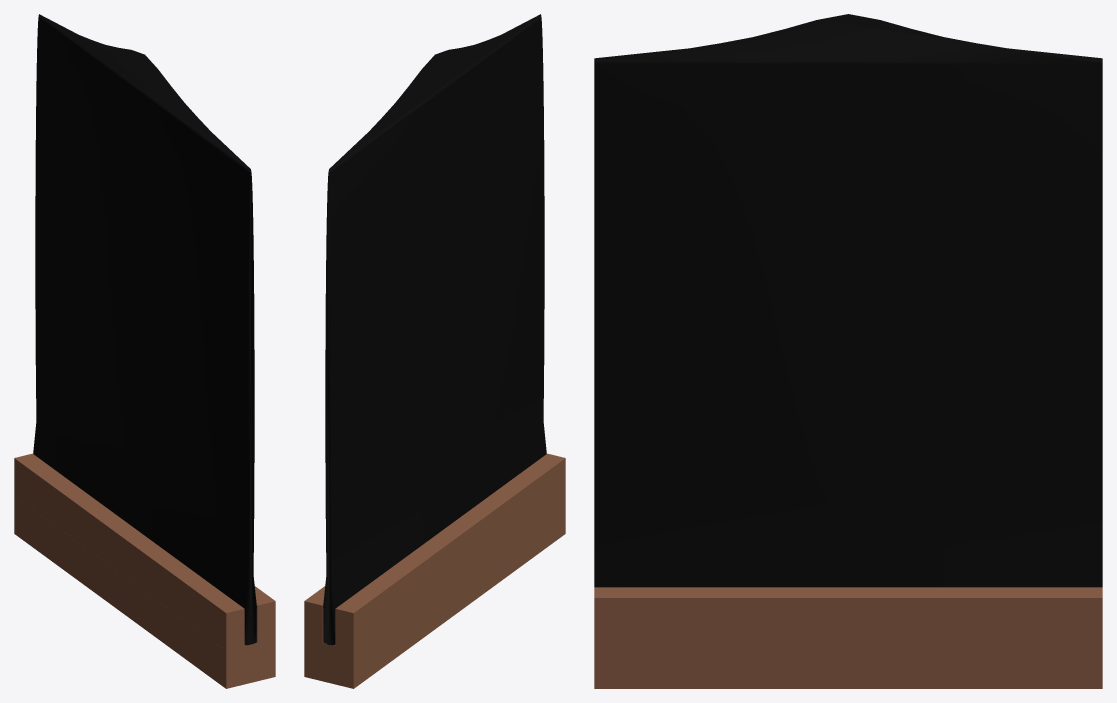
File: sign3.fbx
The picture shows the model from 3 angles, left to right: view 1: azimuth 30°, elevation 25°; view 2: azimuth 150°, elevation 25°; view 3: azimuth 270°, elevation 25°; orthographic projection. The views are drawn at different scales.
Visible parts, largest first — view 1: Cube.002; view 2: Cube.002; view 3: Cube.002.
Part boxes in pixels (x1,y1,x2,y2): Cube.002: (14,14,275,688); Cube.002: (304,14,565,688); Cube.002: (594,14,1102,688).
Bounding box in the file's own units: 27 × 287 × 200.
